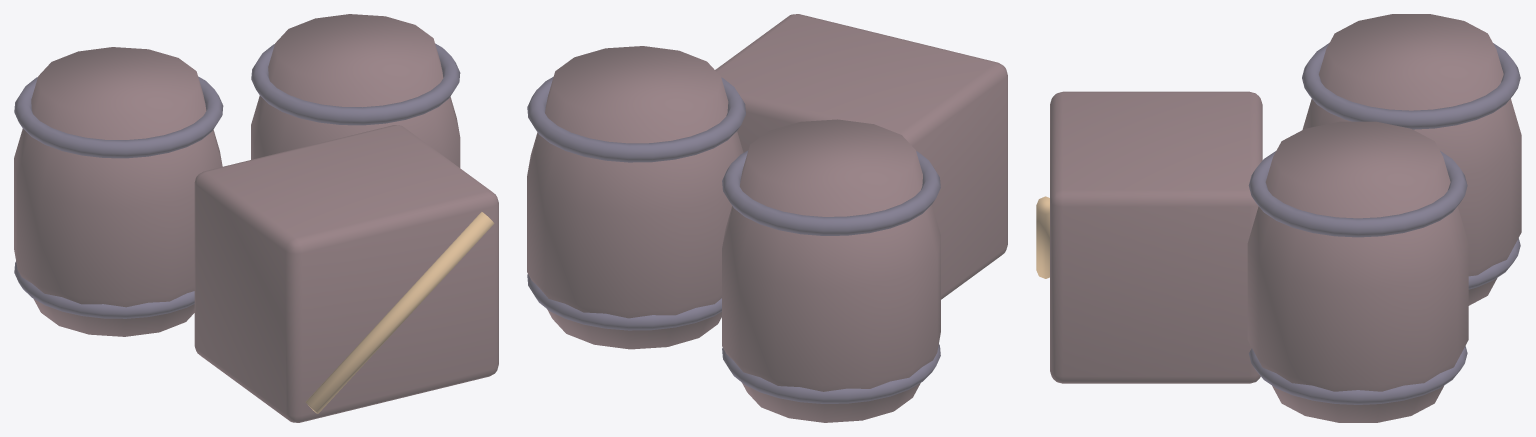
File: castle_detail_barrels_cursed.glb
3 views of the same model, side by side, from view 1: azimuth 30°, elevation 25°; view 2: azimuth 150°, elevation 25°; view 3: azimuth 270°, elevation 25° (orthographic). The views are drawn at different scales.
Parts seen in each view (by area): view 1: castle_detail_barrels_cursed_surface; view 2: castle_detail_barrels_cursed_surface; view 3: castle_detail_barrels_cursed_surface.
Boxes of the visible parts, bbox=[...] form: castle_detail_barrels_cursed_surface: bbox=[14, 14, 498, 422]; castle_detail_barrels_cursed_surface: bbox=[527, 14, 1007, 422]; castle_detail_barrels_cursed_surface: bbox=[1036, 14, 1521, 422].
Bounding box in the file's own units: 2.23 × 1.2 × 2.28.
